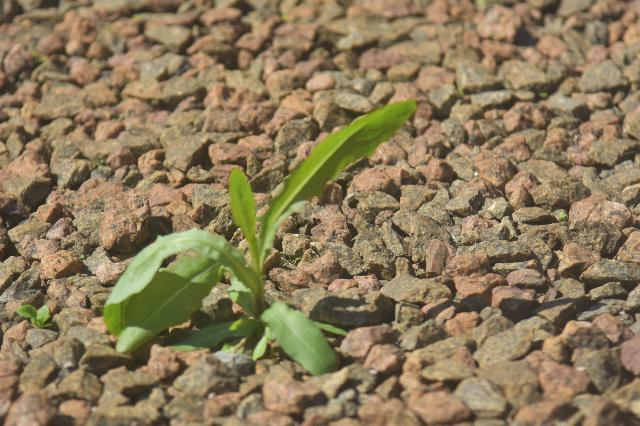MalezaMontesDelPlata: (105, 92, 408, 378), (10, 303, 60, 335)
